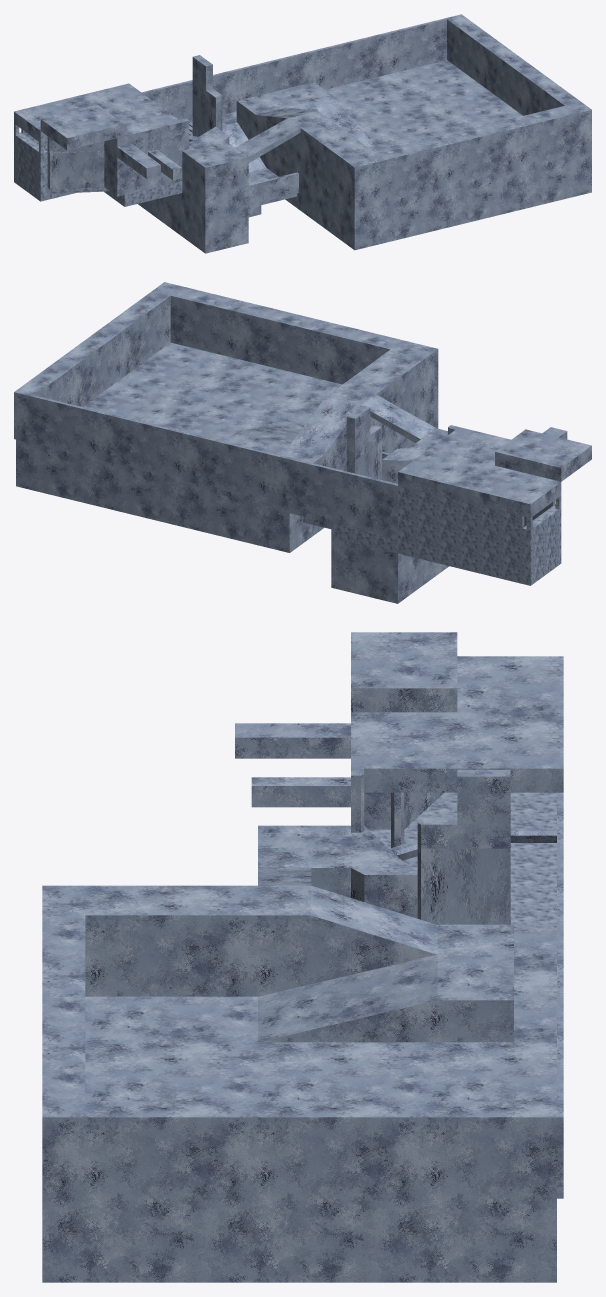
Rendered from map.glb.
The picture shows the model from 3 angles, top to bottom: view 1: azimuth 30°, elevation 25°; view 2: azimuth 150°, elevation 25°; view 3: azimuth 270°, elevation 25°; orthographic projection. The views are drawn at different scales.
Visible parts, largest first — view 1: entity0_brush54, entity0_brush60, entity0_brush53, entity0_brush56, entity0_brush47, entity0_brush61, entity0_brush57, entity0_brush18, entity0_brush12, entity0_brush29, entity0_brush5, entity0_brush11 (+25 smaller); view 2: entity0_brush53, entity0_brush60, entity0_brush56, entity0_brush54, entity0_brush61, entity0_brush29, entity0_brush30, entity0_brush41, entity0_brush57, entity0_brush40, entity0_brush4, entity0_brush18 (+17 smaller); view 3: entity0_brush61, entity0_brush53, entity0_brush54, entity0_brush57, entity0_brush60, entity0_brush55, entity0_brush18, entity0_brush5, entity0_brush49, entity0_brush2, entity0_brush26, entity0_brush51 (+18 smaller).
Boxes of the visible parts, left/top/right/bottom form: entity0_brush54: left=300, top=115, right=591, bottom=250; entity0_brush60: left=375, top=102, right=591, bottom=200; entity0_brush53: left=325, top=60, right=521, bottom=149; entity0_brush56: left=259, top=14, right=462, bottom=94; entity0_brush47: left=182, top=140, right=248, bottom=253; entity0_brush61: left=447, top=15, right=580, bottom=115; entity0_brush57: left=300, top=120, right=385, bottom=207; entity0_brush18: left=40, top=105, right=124, bottom=150; entity0_brush12: left=47, top=151, right=104, bottom=189; entity0_brush29: left=141, top=69, right=238, bottom=122; entity0_brush5: left=111, top=103, right=182, bottom=145; entity0_brush11: left=124, top=134, right=182, bottom=194; entity0_brush53: left=16, top=379, right=285, bottom=535; entity0_brush60: left=152, top=282, right=402, bottom=384; entity0_brush56: left=14, top=391, right=249, bottom=495; entity0_brush54: left=121, top=342, right=438, bottom=453; entity0_brush61: left=16, top=291, right=170, bottom=406; entity0_brush29: left=273, top=454, right=397, bottom=539; entity0_brush30: left=398, top=486, right=524, bottom=569; entity0_brush41: left=331, top=537, right=448, bottom=603; entity0_brush57: left=341, top=340, right=438, bottom=436; entity0_brush40: left=217, top=470, right=346, bottom=552; entity0_brush4: left=464, top=465, right=561, bottom=517; entity0_brush18: left=495, top=429, right=591, bottom=481; entity0_brush61: left=85, top=1101, right=556, bottom=1198; entity0_brush53: left=258, top=1028, right=556, bottom=1282; entity0_brush54: left=42, top=996, right=257, bottom=1282; entity0_brush57: left=42, top=885, right=257, bottom=996; entity0_brush60: left=42, top=915, right=85, bottom=1198; entity0_brush55: left=258, top=954, right=437, bottom=1042; entity0_brush18: left=351, top=632, right=457, bottom=712; entity0_brush5: left=351, top=712, right=457, bottom=792; entity0_brush49: left=311, top=885, right=437, bottom=983; entity0_brush2: left=457, top=712, right=563, bottom=792; entity0_brush26: left=417, top=847, right=510, bottom=924; entity0_brush51: left=437, top=954, right=513, bottom=1042.
Bounding box in the file's own units: 1556 × 460 × 785.
Materials: 1 (1 with a texture image).
